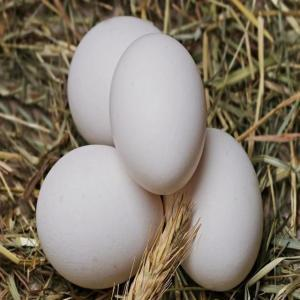Egg: (21, 132, 178, 291), (164, 95, 278, 300), (110, 30, 214, 207), (51, 6, 168, 142)
